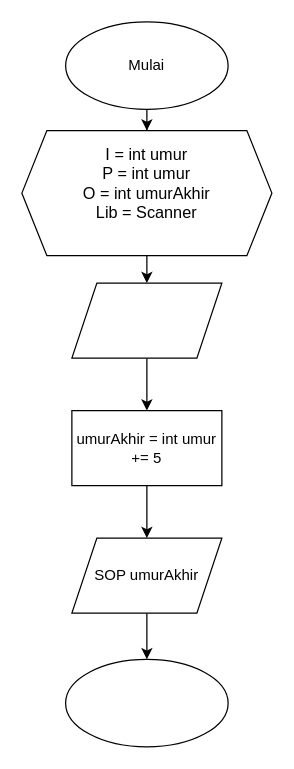
This 294x769 diagram has some shape labels left out. The shapes that lost their labels are listed below. From the top down, each one's centre as x and y in pixels, then its label:
At (x=146, y=320): "int Umur".
At (x=146, y=702): "Selesai".
